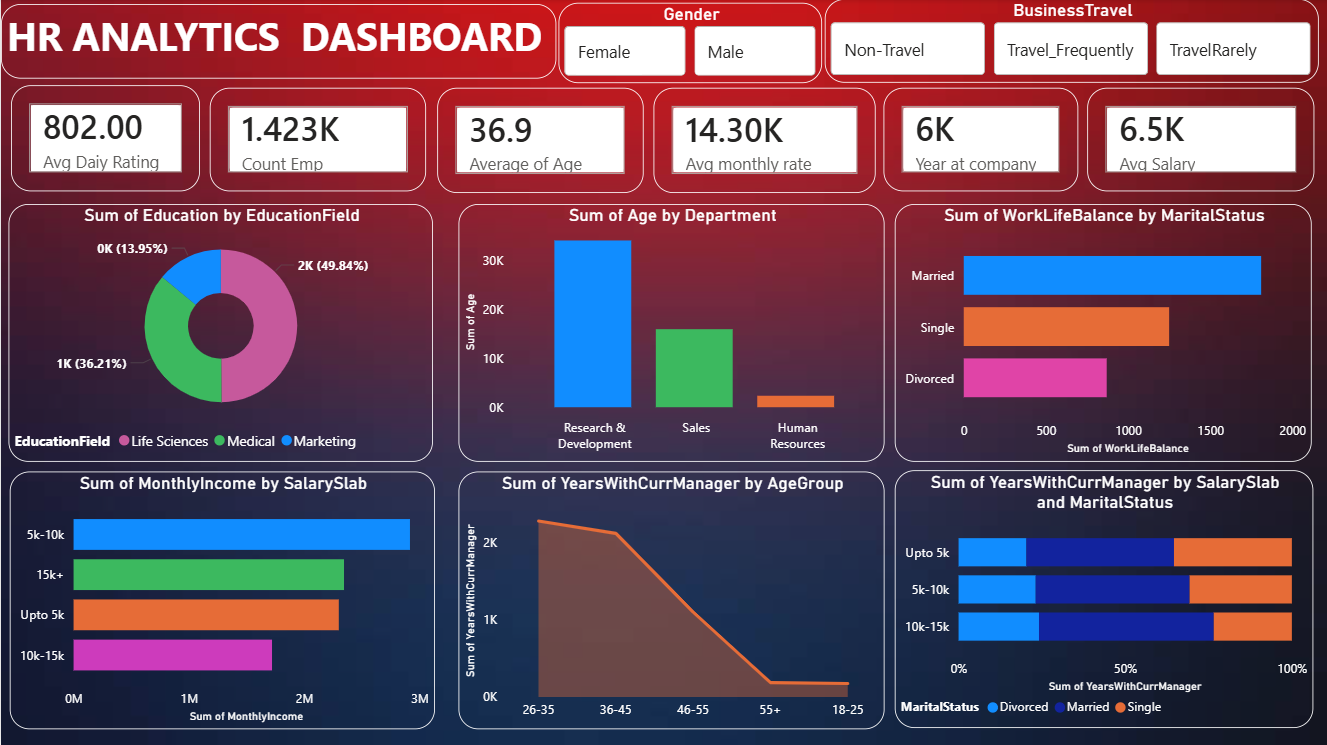

Layout of this report page (visuals, bound fields, positions):
{"tool":"powerbi","page":{"name":"Page 1","canvas":[1280,720],"ordinal":0},"visuals":[{"type":"cardVisual","fields":{"Data":["Avg(HR_Analytics (1).DailyRate)"]},"box":[9.7,83.2,182.2,102.5],"z":0},{"type":"textbox","box":[0,4.5,536.2,72.3],"z":1000},{"type":"cardVisual","fields":{"Data":["Sum(HR_Analytics (1).EmployeeCount)"]},"box":[201.5,85.1,209,100.1],"z":2000},{"type":"cardVisual","fields":{"Data":["Avg(HR_Analytics (1).Age)"]},"box":[420.5,85.1,199,101.4],"z":3000},{"type":"cardVisual","fields":{"Data":["Avg(HR_Analytics (1).MonthlyRate)"]},"box":[629.5,85.1,214,101.4],"z":4000},{"type":"cardVisual","fields":{"Data":["Sum(HR_Analytics (1).YearsInCurrentRole)"]},"box":[852.3,85.1,187.7,100.1],"z":5000},{"type":"cardVisual","fields":{"Data":["Avg(HR_Analytics (1).MonthlyIncome)"]},"box":[1048.7,85.1,219,100.1],"z":6000},{"type":"donutChart","fields":{"Y":["Sum(HR_Analytics (1).Education)"],"Category":["HR_Analytics (1).EducationField"]},"box":[7.5,197.3,409.7,248.5],"z":7000},{"type":"clusteredColumnChart","fields":{"Y":["Sum(HR_Analytics (1).Age)"],"Category":["HR_Analytics (1).Department"]},"box":[441.3,197.3,411.2,248.5],"z":8000},{"type":"advancedSlicerVisual","fields":{"Values":["HR_Analytics (1).Gender"]},"box":[538.1,3.6,254.6,77.2],"z":9000},{"type":"clusteredBarChart","fields":{"Category":["HR_Analytics (1).SalarySlab"],"Y":["Sum(HR_Analytics (1).MonthlyIncome)"]},"box":[8,456,410,249],"z":10000},{"type":"areaChart","fields":{"Category":["HR_Analytics (1).AgeGroup"],"Y":["Sum(HR_Analytics (1).YearsWithCurrManager)"]},"box":[441,456,411,249],"z":11000},{"type":"hundredPercentStackedBarChart","fields":{"Category":["HR_Analytics (1).SalarySlab"],"Y":["Sum(HR_Analytics (1).YearsWithCurrManager)"],"Series":["HR_Analytics (1).MaritalStatus"]},"box":[863.1,454.9,403.7,248.5],"z":12000},{"type":"clusteredBarChart","fields":{"Category":["HR_Analytics (1).MaritalStatus"],"Y":["Sum(HR_Analytics (1).WorkLifeBalance)"]},"box":[863.1,197.3,402.2,248.5],"z":13000},{"type":"advancedSlicerVisual","fields":{"Values":["HR_Analytics (1).BusinessTravel"]},"box":[794.8,0,476.6,80.5],"z":14000}]}

Visuals, with their boxes in screenshot pixels (x1, y1, x2, y2), scaled from the page's 1280x720 canvas onto the 1327x745 screenshot:
cardVisual - Avg(HR_Analytics (1).DailyRate): x1=10 y1=86 x2=199 y2=192
textbox: x1=0 y1=5 x2=556 y2=79
cardVisual - Sum(HR_Analytics (1).EmployeeCount): x1=209 y1=88 x2=426 y2=192
cardVisual - Avg(HR_Analytics (1).Age): x1=436 y1=88 x2=642 y2=193
cardVisual - Avg(HR_Analytics (1).MonthlyRate): x1=653 y1=88 x2=874 y2=193
cardVisual - Sum(HR_Analytics (1).YearsInCurrentRole): x1=884 y1=88 x2=1078 y2=192
cardVisual - Avg(HR_Analytics (1).MonthlyIncome): x1=1087 y1=88 x2=1314 y2=192
donutChart - Sum(HR_Analytics (1).Education) x HR_Analytics (1).EducationField: x1=8 y1=204 x2=433 y2=461
clusteredColumnChart - Sum(HR_Analytics (1).Age) x HR_Analytics (1).Department: x1=458 y1=204 x2=884 y2=461
advancedSlicerVisual - HR_Analytics (1).Gender: x1=558 y1=4 x2=822 y2=84
clusteredBarChart - HR_Analytics (1).SalarySlab x Sum(HR_Analytics (1).MonthlyIncome): x1=8 y1=472 x2=433 y2=729
areaChart - HR_Analytics (1).AgeGroup x Sum(HR_Analytics (1).YearsWithCurrManager): x1=457 y1=472 x2=883 y2=729
hundredPercentStackedBarChart - HR_Analytics (1).SalarySlab x Sum(HR_Analytics (1).YearsWithCurrManager): x1=895 y1=471 x2=1313 y2=728
clusteredBarChart - HR_Analytics (1).MaritalStatus x Sum(HR_Analytics (1).WorkLifeBalance): x1=895 y1=204 x2=1312 y2=461
advancedSlicerVisual - HR_Analytics (1).BusinessTravel: x1=824 y1=0 x2=1318 y2=83
